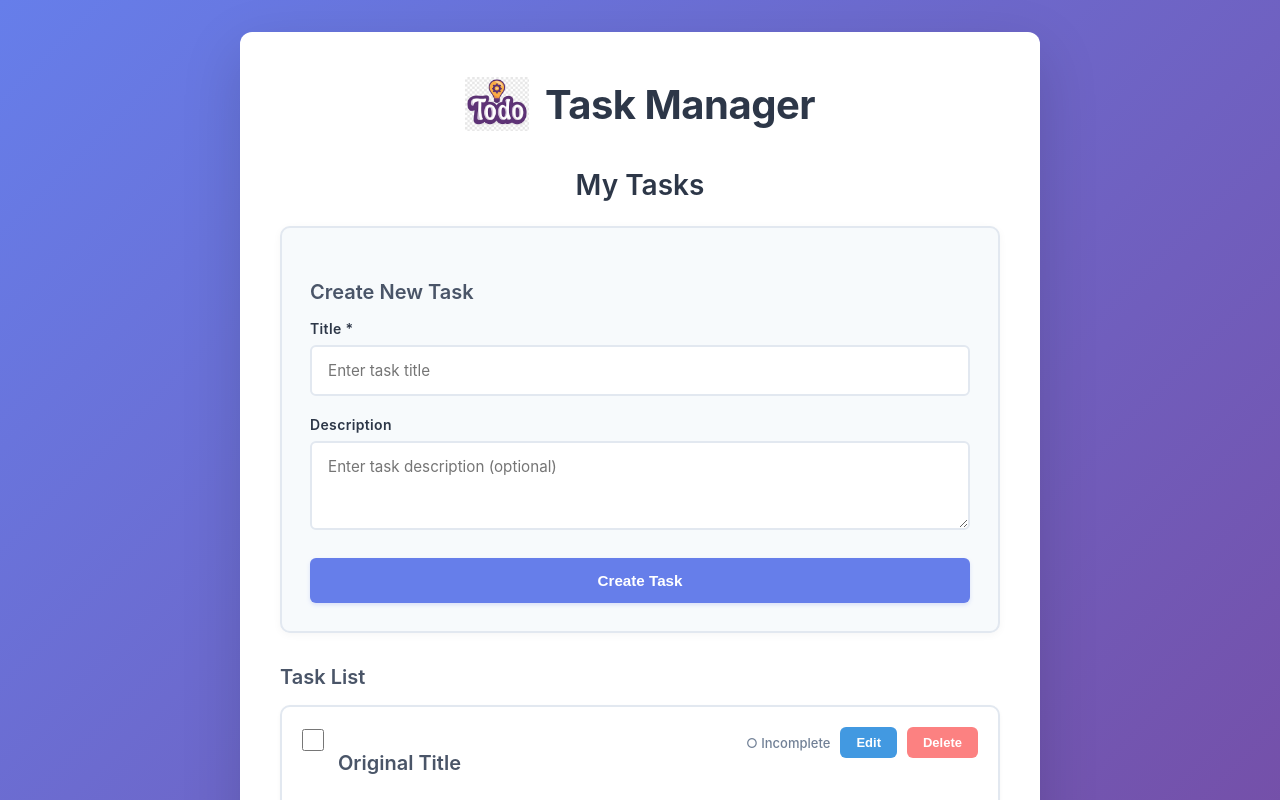
App Component › Integration Tests - Complete User Flows › Task Editing Flow › should complete full task editing flow: edit button → form → update → display
The width and height of the screenshot is (1280, 800).
expect the heading "Original Title" is shown: met, box [338,751,461,775]
Click edit button
Click the button named "edit task \"original title\"" at (869,742), box [840,727,897,758]
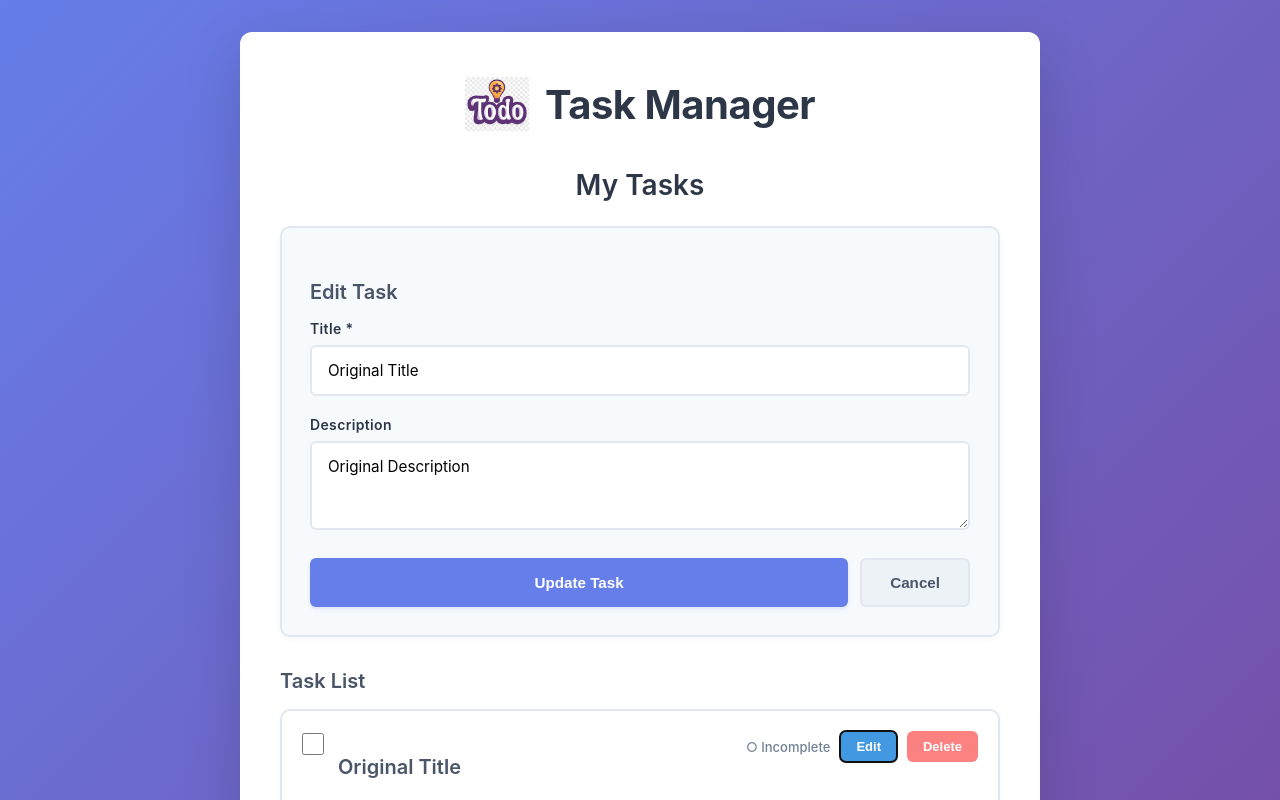
expect the heading "Edit Task" is shown: met, box [310,280,398,304]
expect the field with placeholder "Enter task title" holds "Original Title": met
expect the text box with placeholder "Enter task description (optional)" holds "Original Description": met, box [310,441,970,530]
Update the task
Replace the text in the field with placeholder "Enter task title" with "Updated Title" at (640,370), box [310,345,970,396]
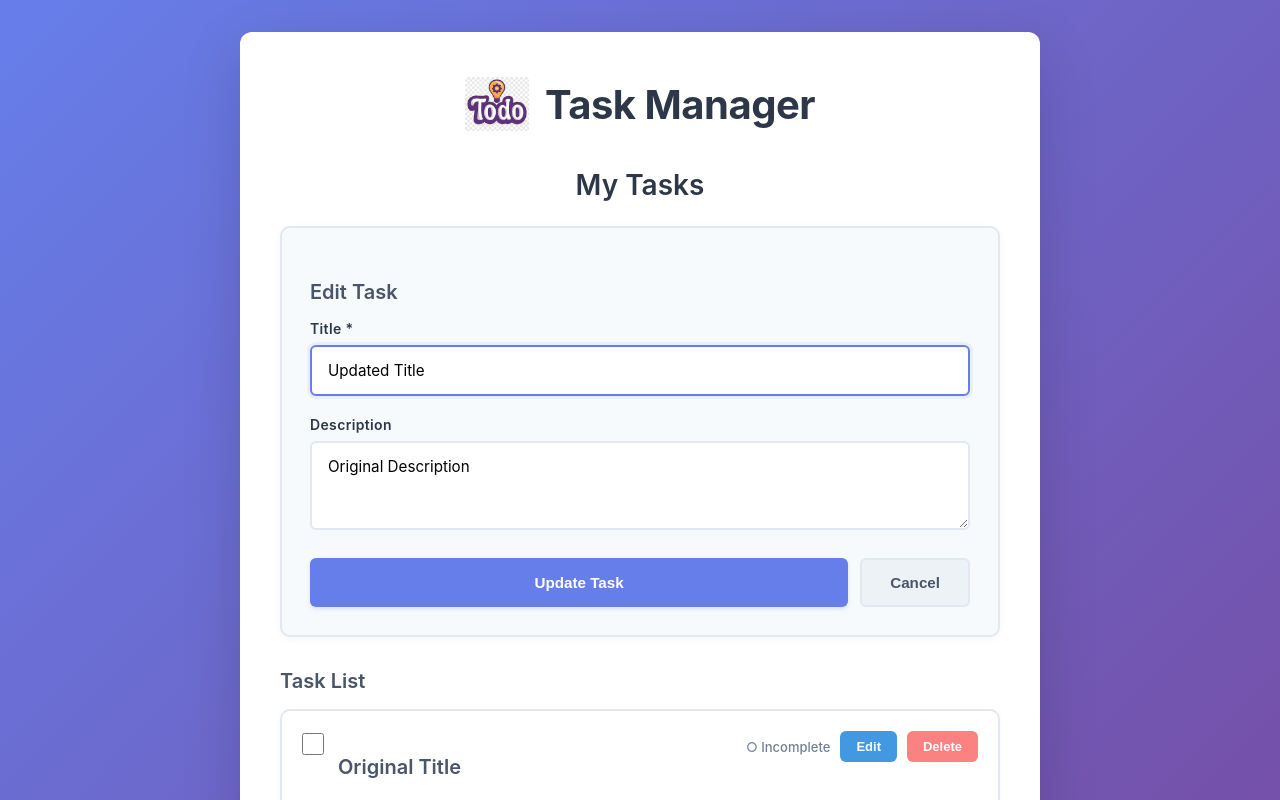
Replace the text in the text box with placeholder "Enter task description (optional)" with "Updated Description" at (640,486), box [310,441,970,530]
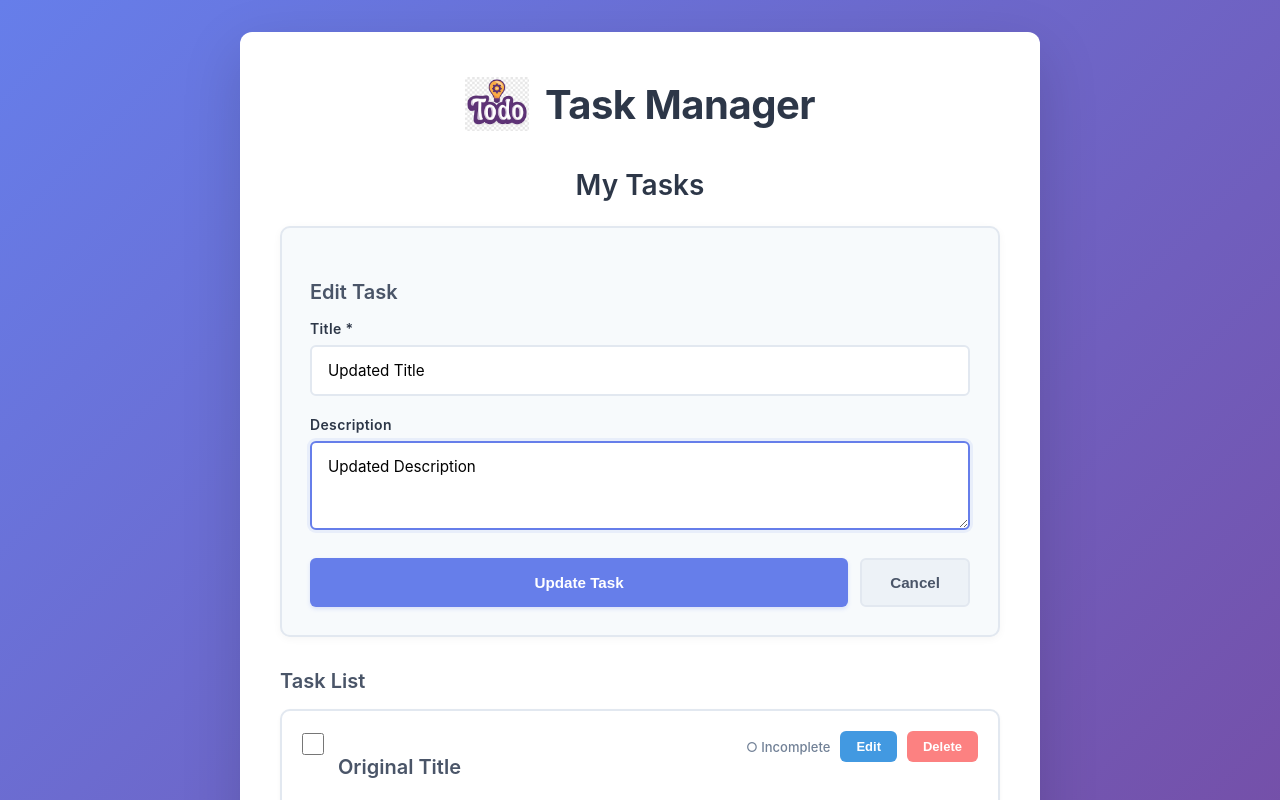
Submit the update
Click the button "Update Task" at (579,582), box [310,558,848,607]
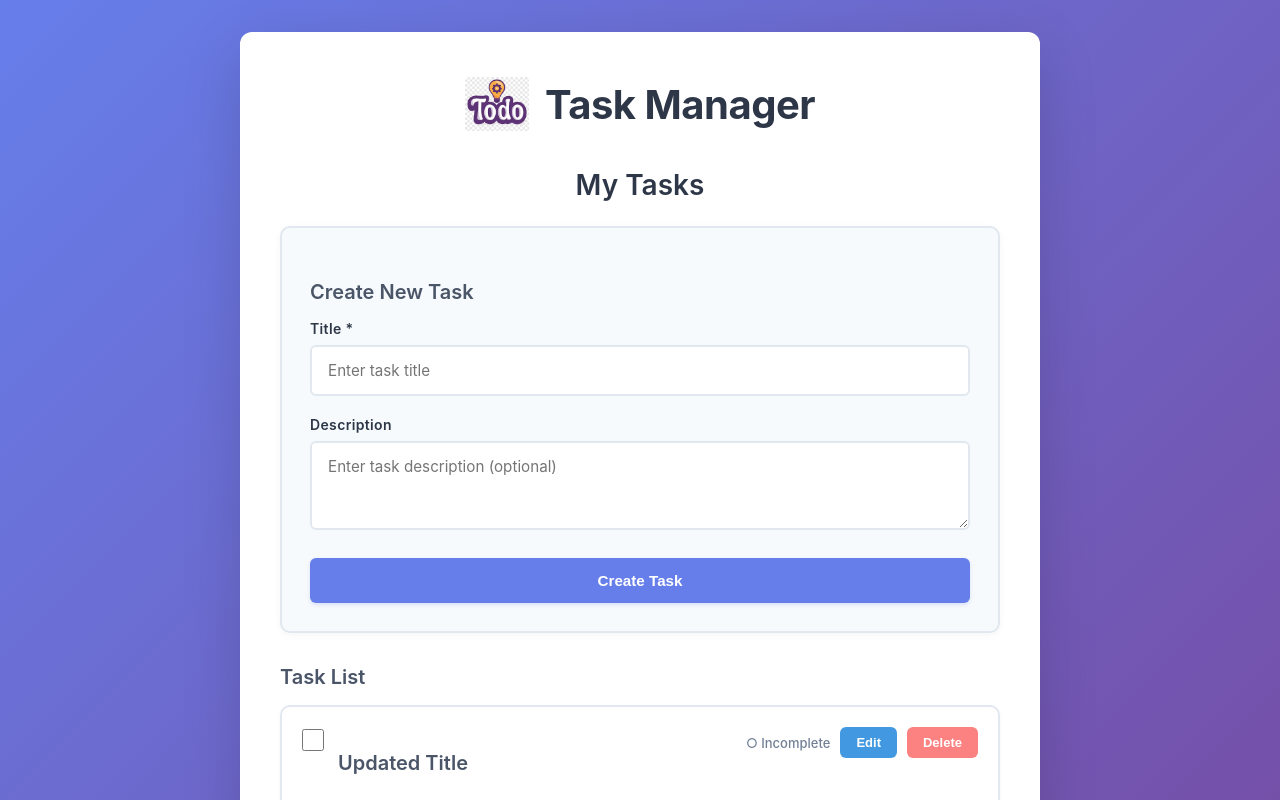
expect the element with class "task-list" shows "Updated Title": met, box [338,751,468,775]
expect the heading "Create New Task" is shown: met, box [310,280,474,304]
